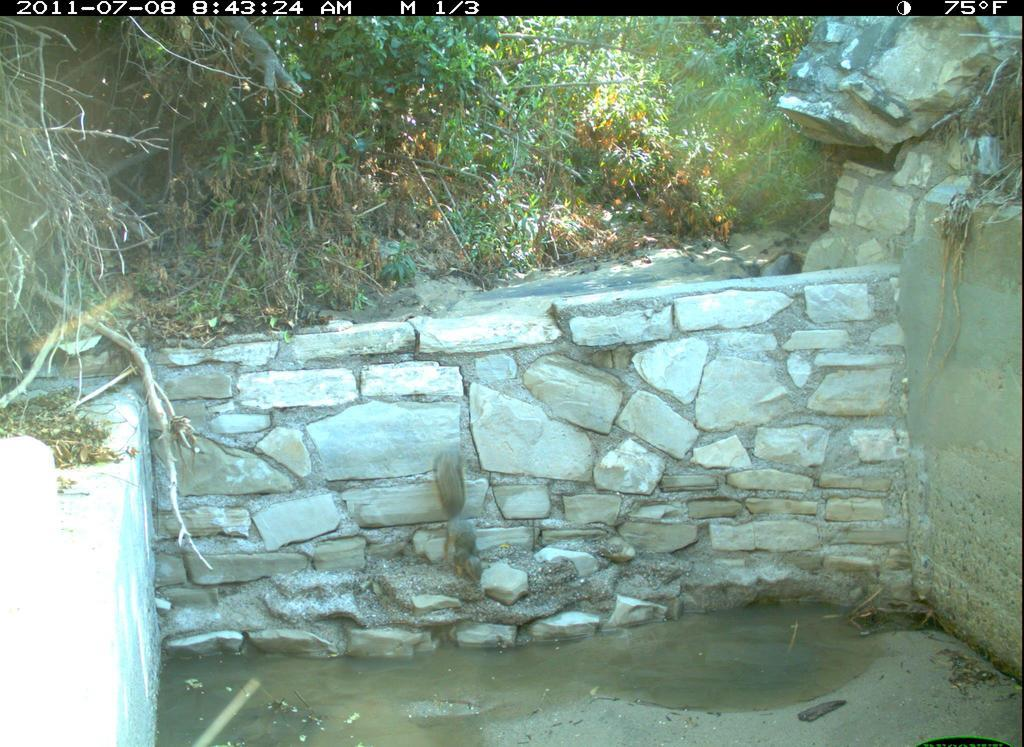squirrel: (431, 442, 485, 589)
